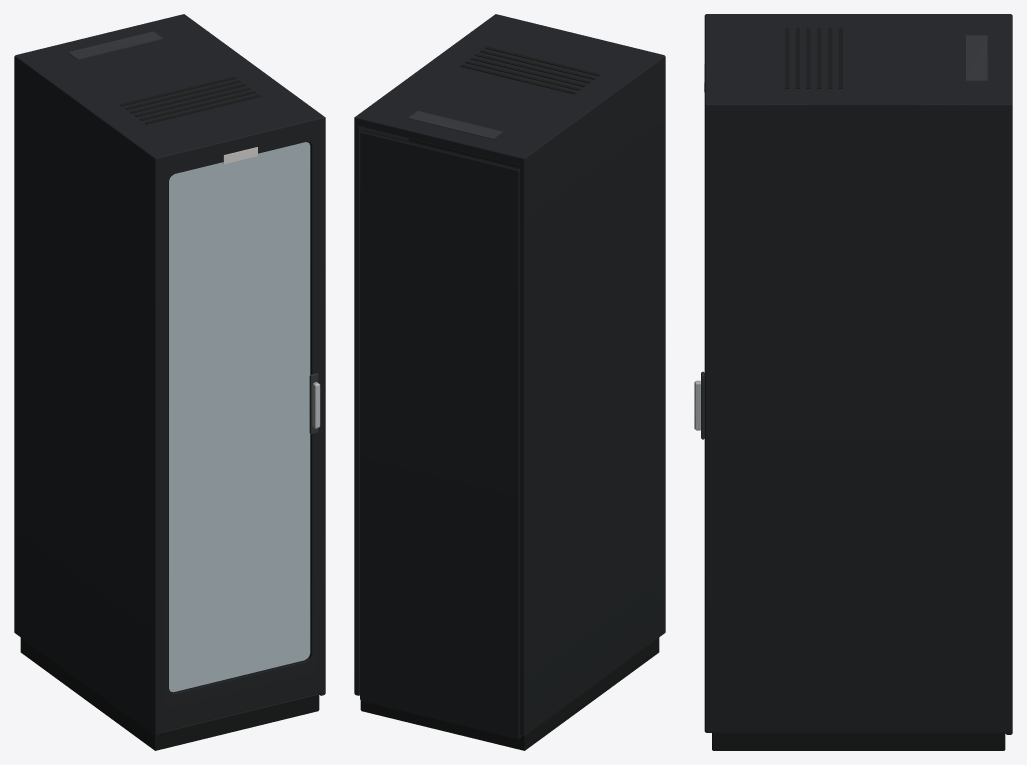
File: serverRack.glb
3 renders of one model, left to right at view 1: azimuth 30°, elevation 25°; view 2: azimuth 150°, elevation 25°; view 3: azimuth 270°, elevation 25°, orthographic. The views are drawn at different scales.
Visible parts, largest first — view 1: serverRack; view 2: serverRack; view 3: serverRack.
Part boxes in pixels (x1,y1,x2,y2): serverRack: (14, 14, 325, 750); serverRack: (354, 14, 665, 750); serverRack: (694, 14, 1012, 750).
Bounding box in the file's own units: 0.6 × 2 × 0.889.
